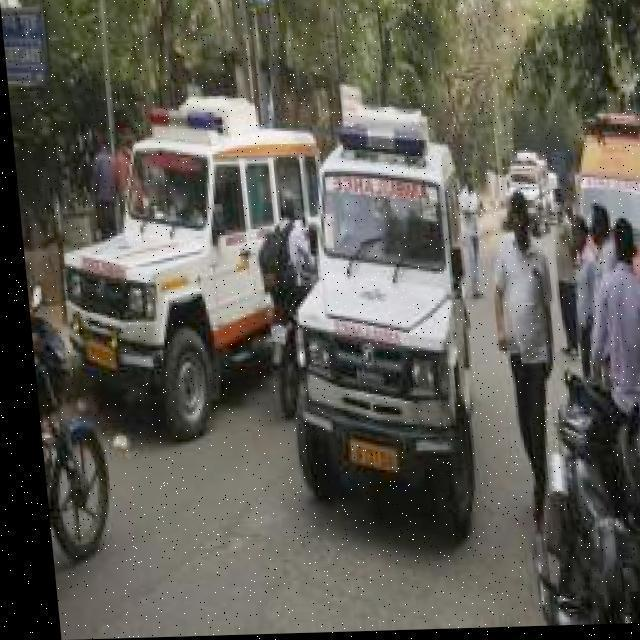Ambulance: (7, 76, 640, 637), (39, 90, 338, 445)
